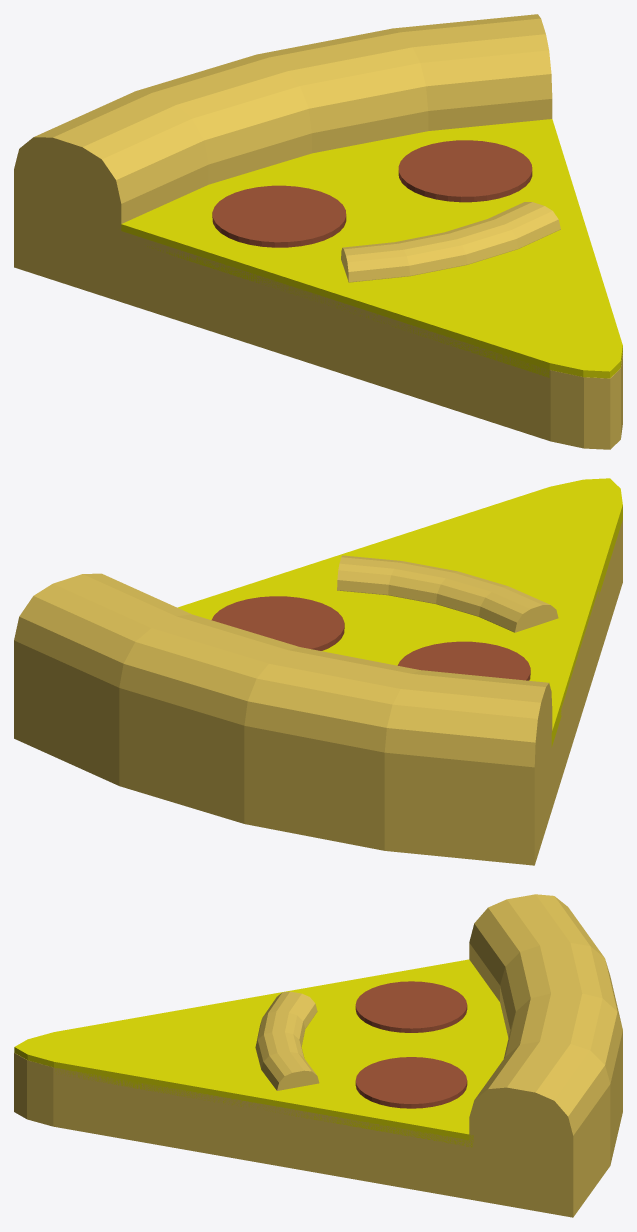
Rendered from pizza.glb.
3 views of the same model, one above another, from view 1: azimuth 30°, elevation 25°; view 2: azimuth 150°, elevation 25°; view 3: azimuth 270°, elevation 25° (orthographic). The views are drawn at different scales.
Parts seen in each view (by area): view 1: Masa, Queso, Boca, Peperoni_1, Peperoni_2; view 2: Masa, Queso, Boca, Peperoni_2, Peperoni_1; view 3: Masa, Queso, Peperoni_2, Peperoni_1, Boca.
Part boxes in pixels (x1=…): Masa: x1=14, y1=14, x2=622, y2=449; Queso: x1=121, y1=119, x2=622, y2=378; Boca: x1=341, y1=202, x2=560, y2=282; Peperoni_1: x1=212, y1=185, x2=346, y2=247; Peperoni_2: x1=398, y1=140, x2=532, y2=202; Masa: x1=14, y1=520, x2=622, y2=865; Queso: x1=177, y1=478, x2=622, y2=747; Boca: x1=337, y1=555, x2=558, y2=632; Peperoni_2: x1=211, y1=596, x2=344, y2=650; Peperoni_1: x1=397, y1=641, x2=530, y2=680; Masa: x1=14, y1=894, x2=622, y2=1217; Queso: x1=14, y1=959, x2=508, y2=1147; Peperoni_2: x1=355, y1=1057, x2=467, y2=1108; Peperoni_1: x1=355, y1=981, x2=467, y2=1032; Boca: x1=255, y1=991, x2=319, y2=1090.
Size of the model in its own units: 0.7654 by 0.2 by 0.9314.
